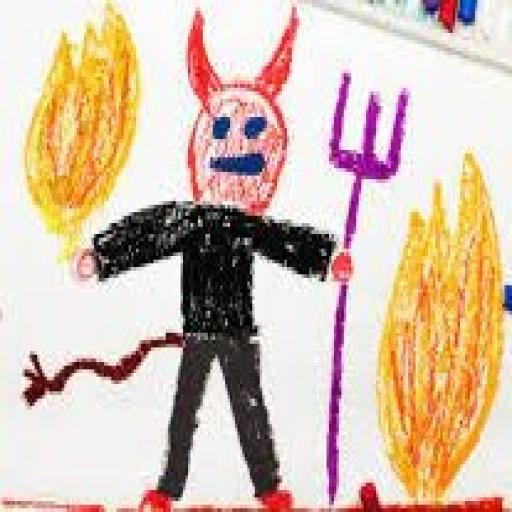person: (76, 4, 354, 508)
